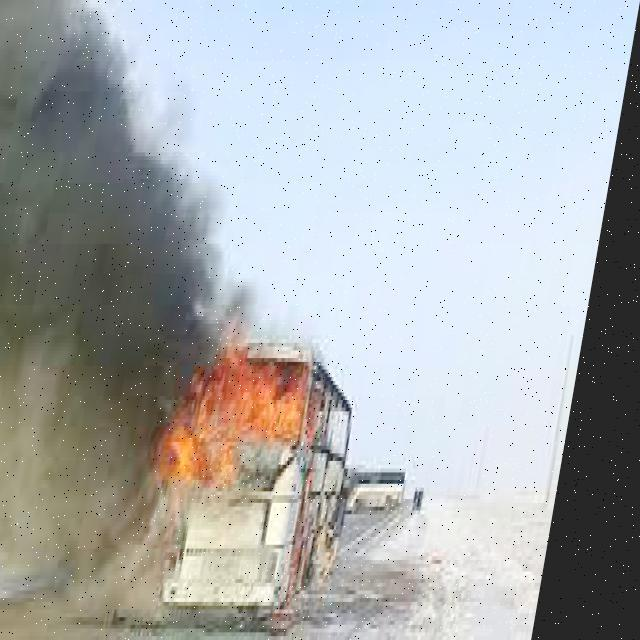Fire: (157, 332, 340, 488)
